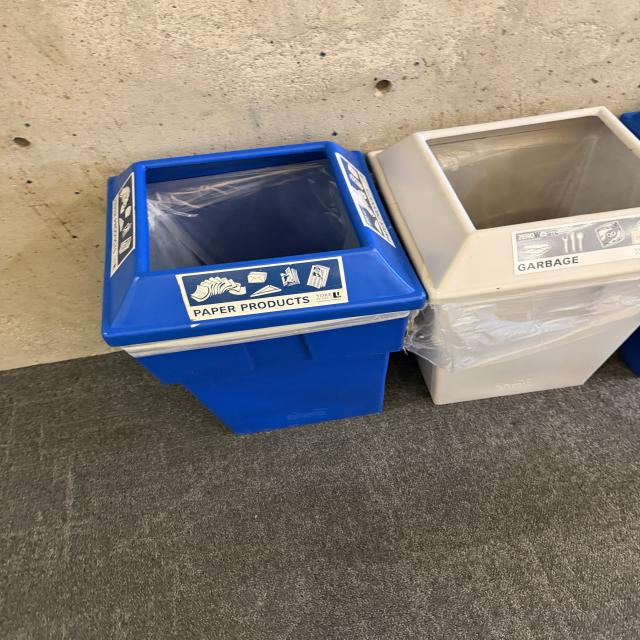Dustbin: (100, 102, 640, 438)
